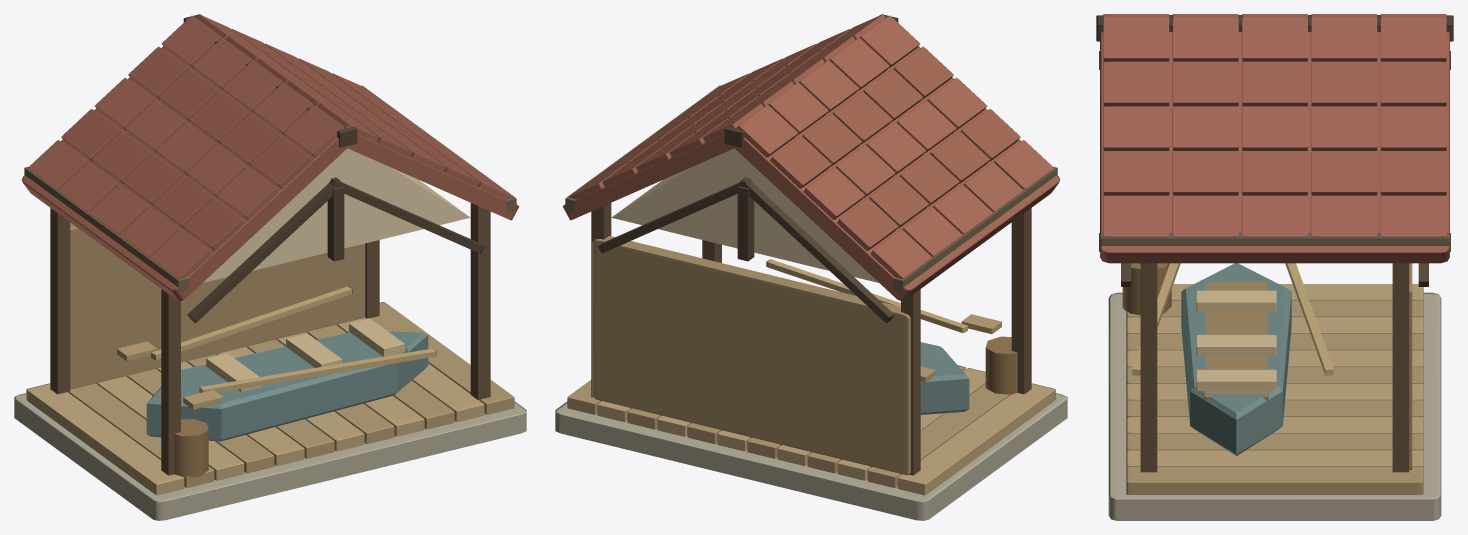
The model's file is boathouse-1.glb.
3 views of the same model, side by side, from view 1: azimuth 30°, elevation 25°; view 2: azimuth 150°, elevation 25°; view 3: azimuth 270°, elevation 25° (orthographic). The views are drawn at different scales.
Visible parts, largest first — view 1: boathouse-1-0; view 2: boathouse-1-0; view 3: boathouse-1-0.
Boxes of the visible parts, x1,y1,x2,y2 form: boathouse-1-0: (14,14,526,520); boathouse-1-0: (555,14,1067,520); boathouse-1-0: (1096,14,1453,520).
Size of the model in its own units: 2.8 by 2.54 by 2.04.
